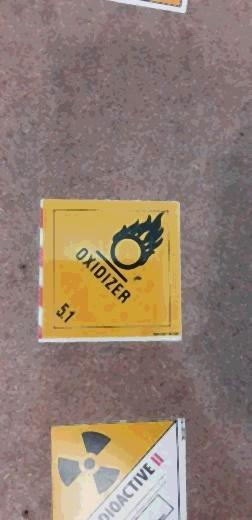oxidizer: (40, 200, 184, 342)
radioactive: (50, 417, 185, 520)
